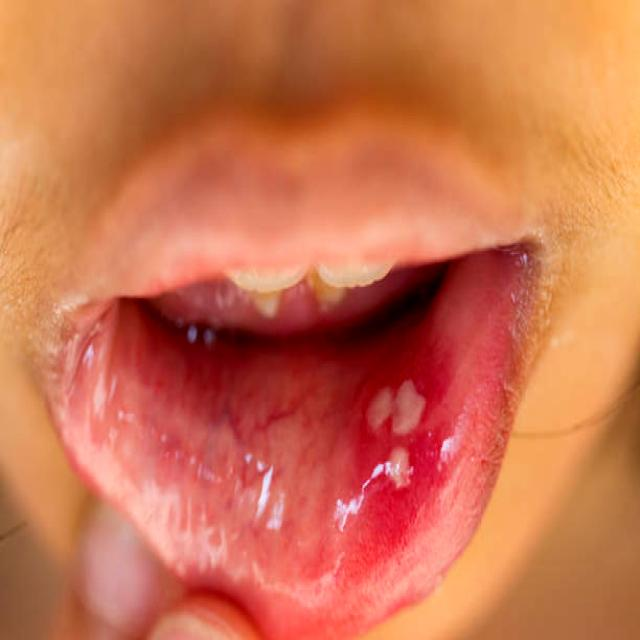ulcer: (392, 380, 425, 435), (367, 387, 397, 433), (385, 449, 408, 488)
